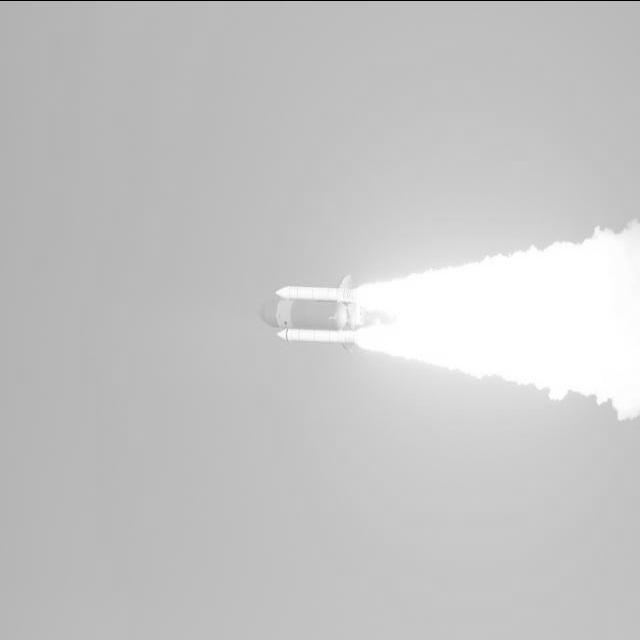missile: (267, 326, 354, 344), (273, 284, 353, 302)
